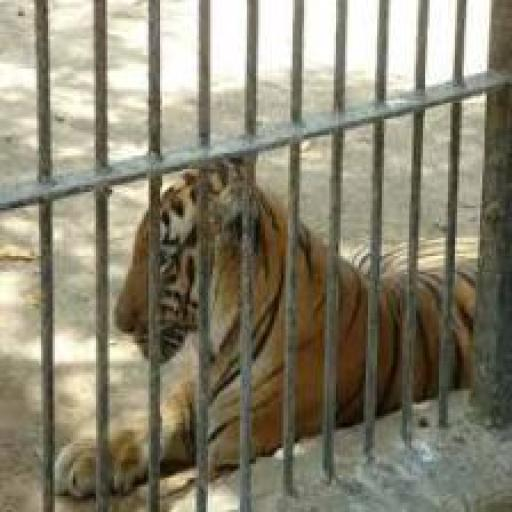Tiger: (50, 135, 511, 511)
